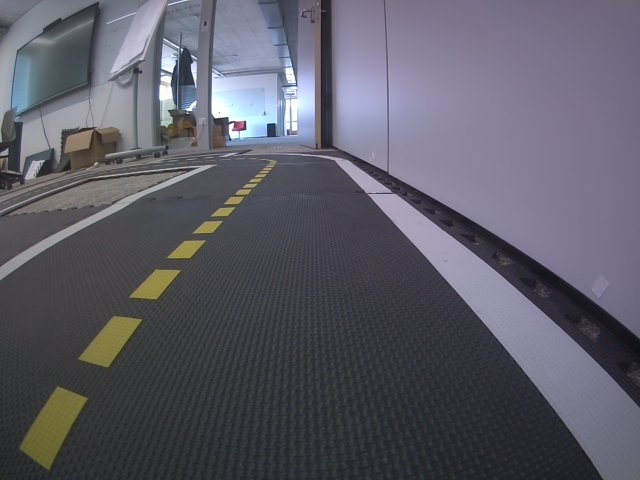freeSpot: (148, 152, 239, 164)
